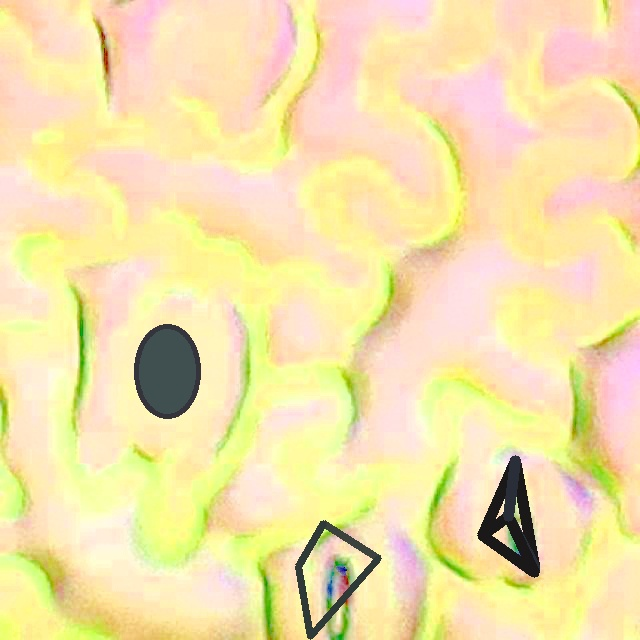close: (134, 324, 200, 418)
open: (295, 520, 381, 639), (477, 456, 538, 576)
